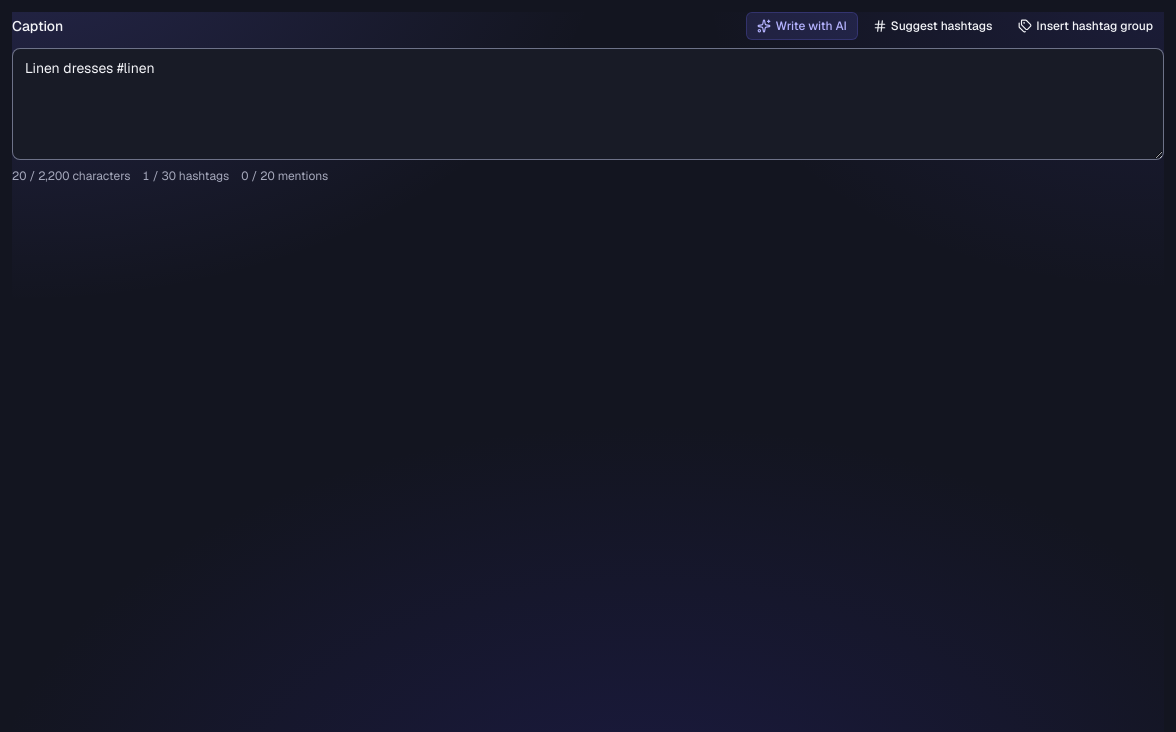
CaptionField (UX-SCR-13, FR-PUB-10) › suggests hashtags not already used; one or all can be added
Click the button "Suggest hashtags". click: (933, 26)
box: [862,12,1003,40]
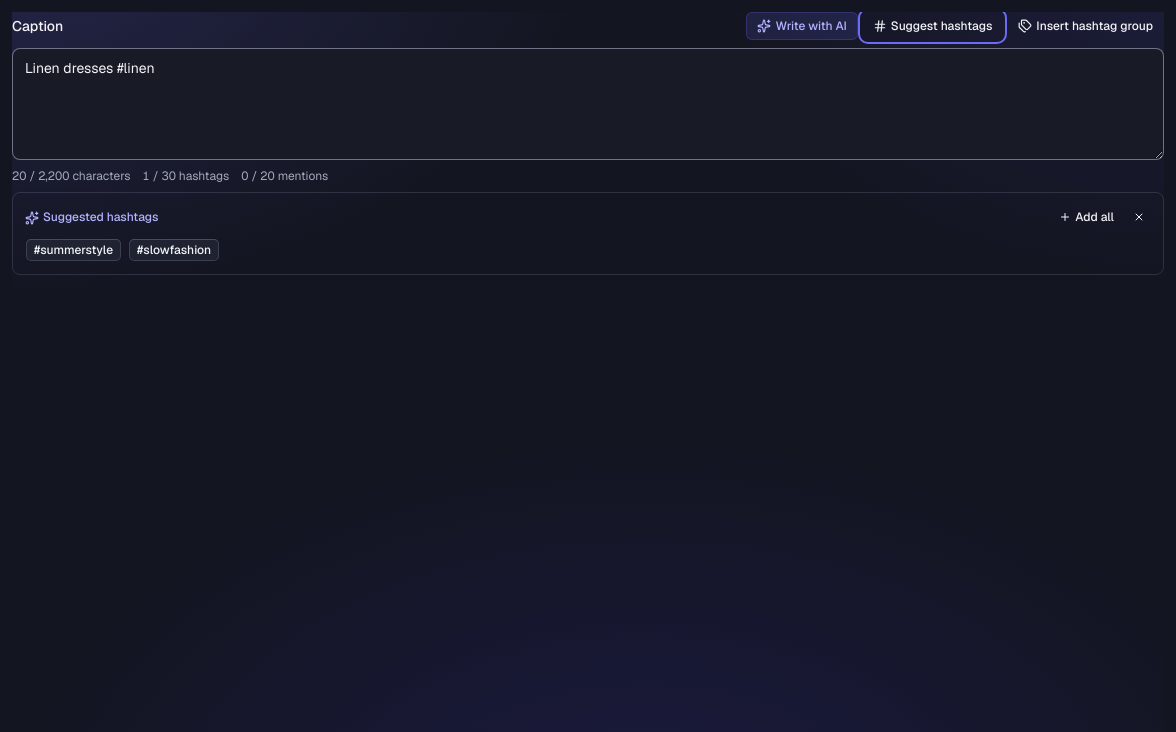
Click the button with aria-label "Add #summerstyle". click: (74, 250)
box: [25,238,122,262]
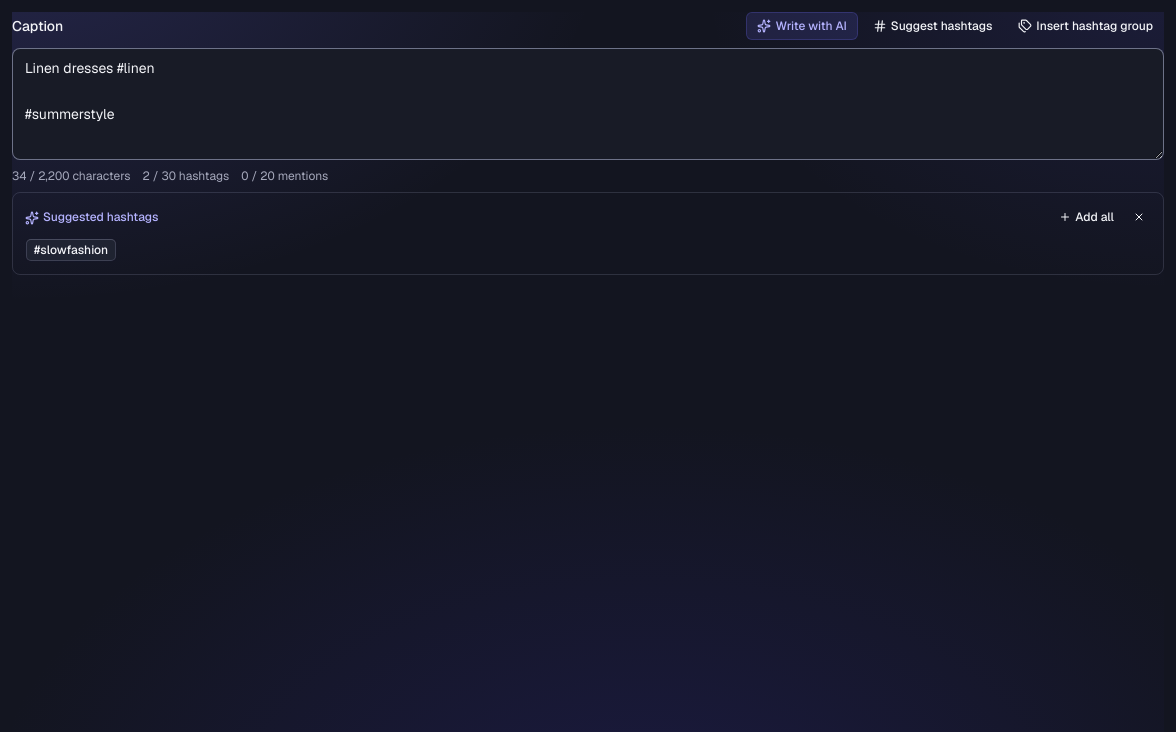
Click the button "Add all". click: (1087, 217)
box: [1050,205,1123,229]
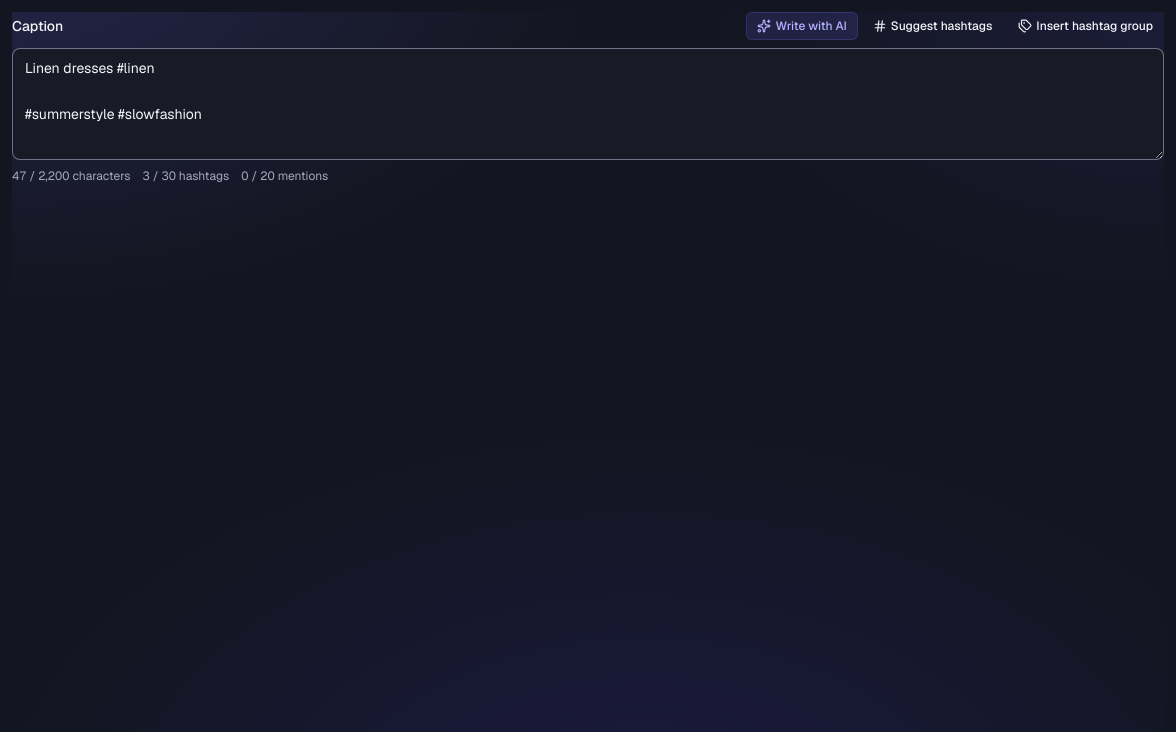
Expected: the element "Suggested hashtags" is gone
